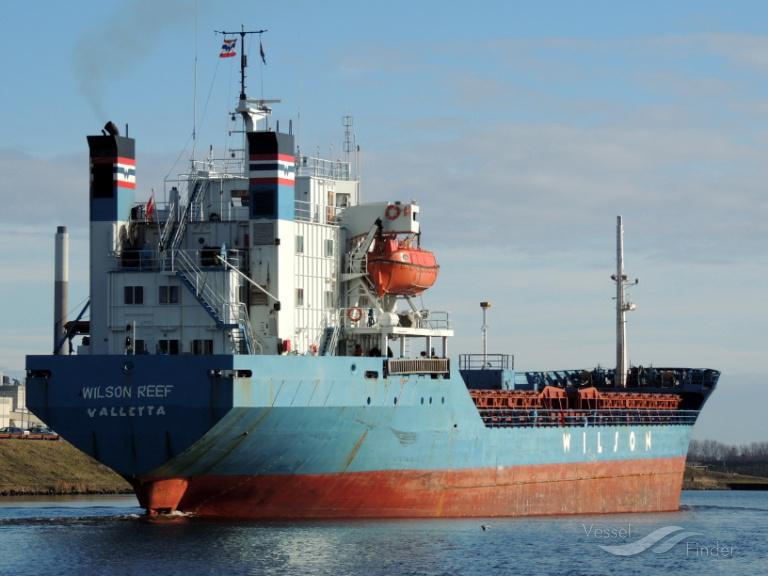OCR: (76, 377, 182, 426)
